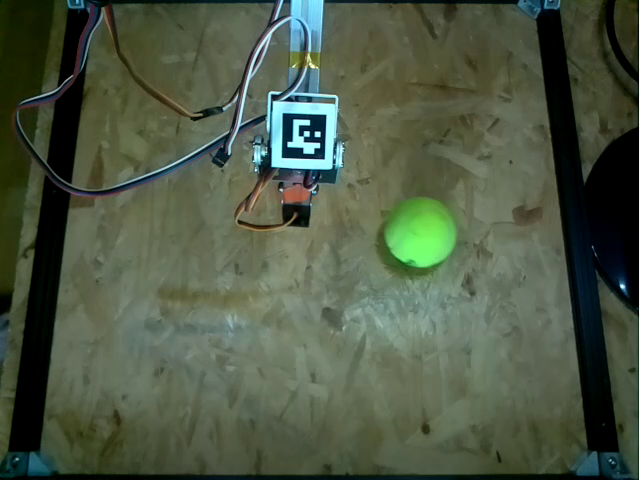tennis_ball: (385, 198, 458, 268)
